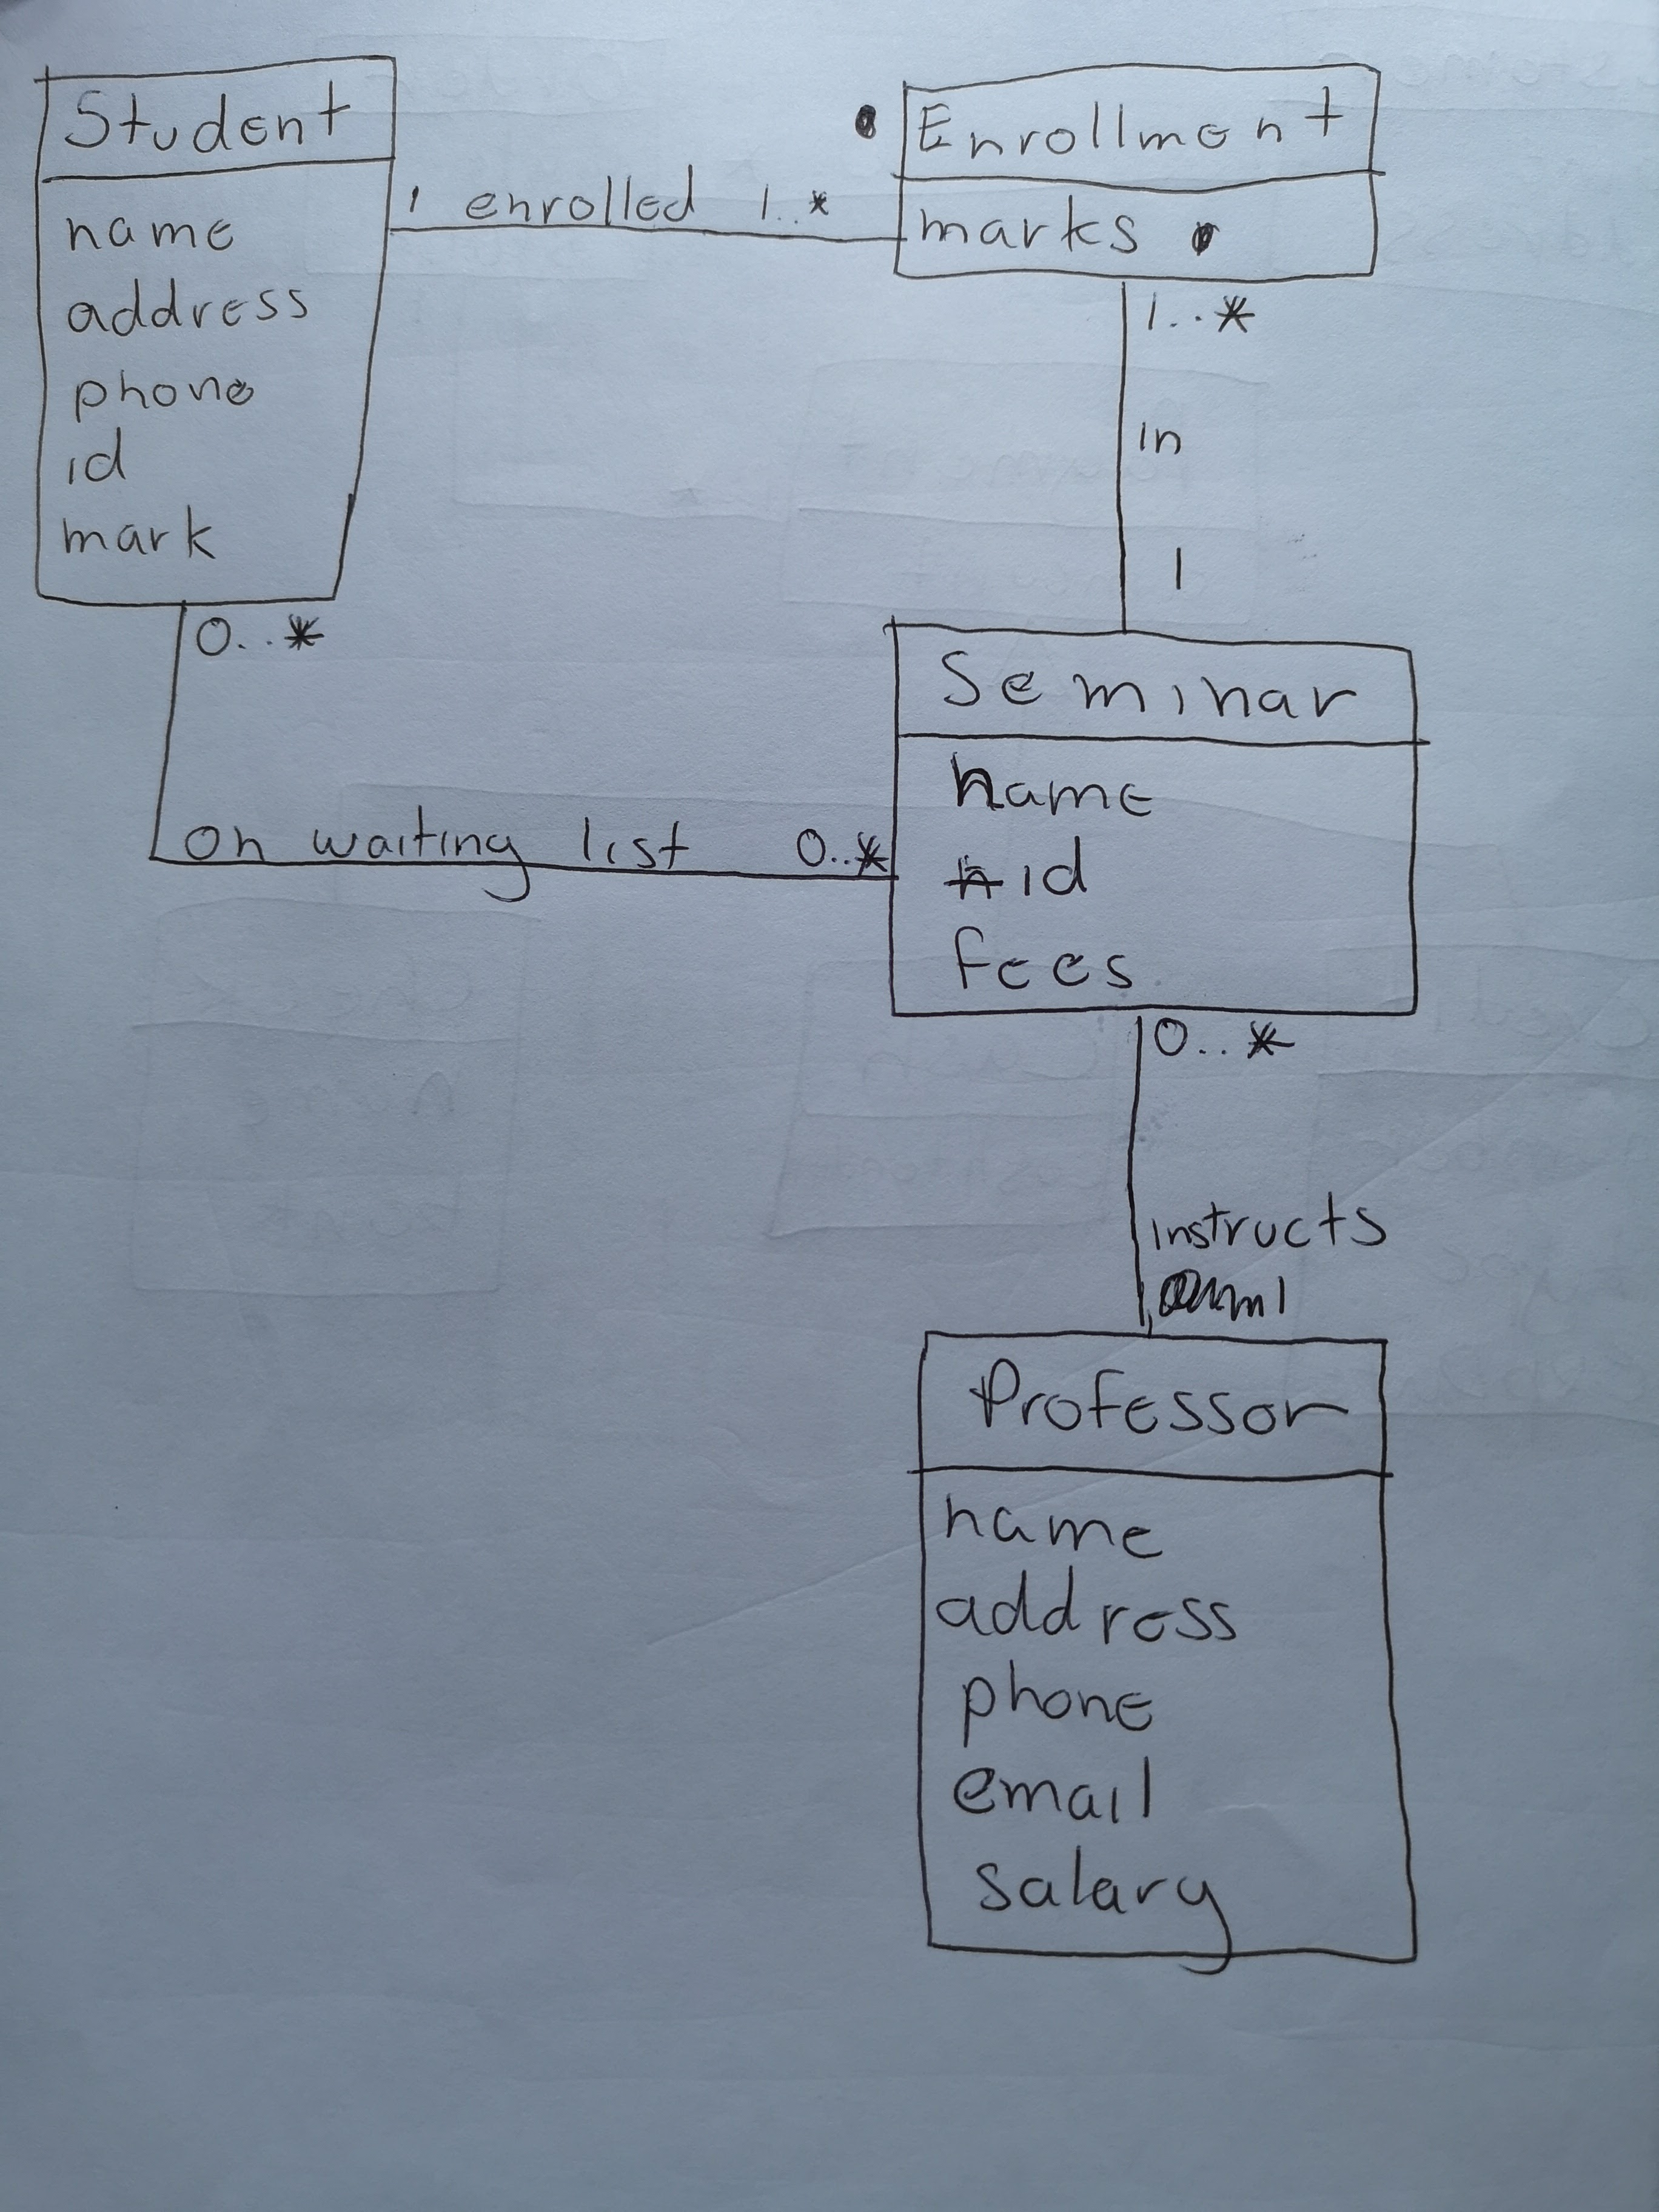association: (140, 598, 906, 883), (1101, 1013, 1397, 1342), (1107, 264, 1257, 637), (376, 164, 916, 254)
class attributes: (906, 1313, 1429, 1974), (874, 611, 1429, 1030), (19, 53, 398, 614), (896, 53, 1384, 280)
